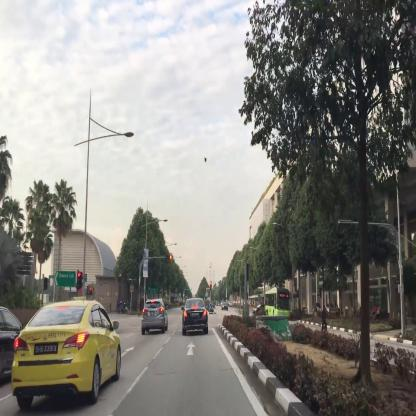red_traffic_light: (77, 271, 81, 288), (166, 255, 172, 259), (210, 282, 211, 290)
